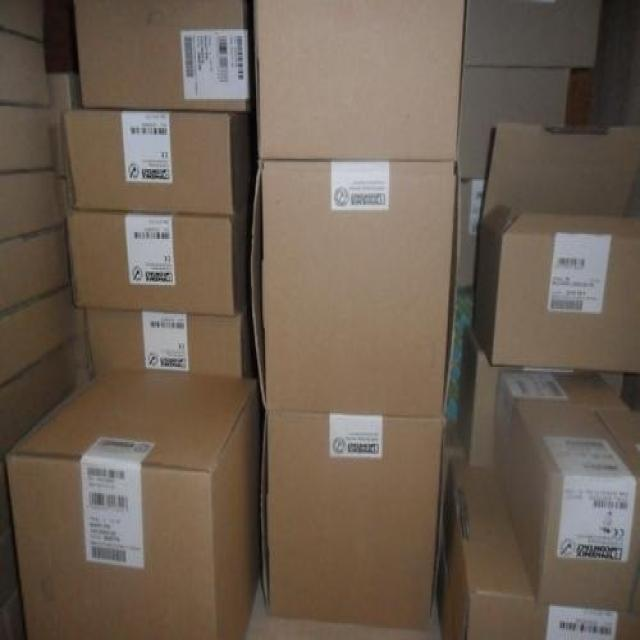box: (6, 365, 267, 638), (249, 157, 460, 418), (474, 121, 639, 374), (264, 409, 443, 625), (434, 453, 639, 638), (255, 1, 468, 160), (508, 396, 639, 611), (66, 185, 255, 316), (63, 104, 253, 213), (72, 1, 252, 114), (494, 367, 632, 507), (86, 302, 258, 384), (458, 65, 570, 178), (1, 335, 76, 459), (463, 3, 600, 68), (3, 282, 76, 384), (0, 221, 72, 307), (461, 323, 501, 472), (438, 417, 469, 571), (1, 169, 66, 239), (0, 451, 24, 638), (444, 288, 477, 422), (456, 173, 490, 291), (2, 104, 58, 174), (1, 28, 50, 104), (46, 70, 81, 176), (0, 3, 44, 41), (75, 307, 89, 366)
